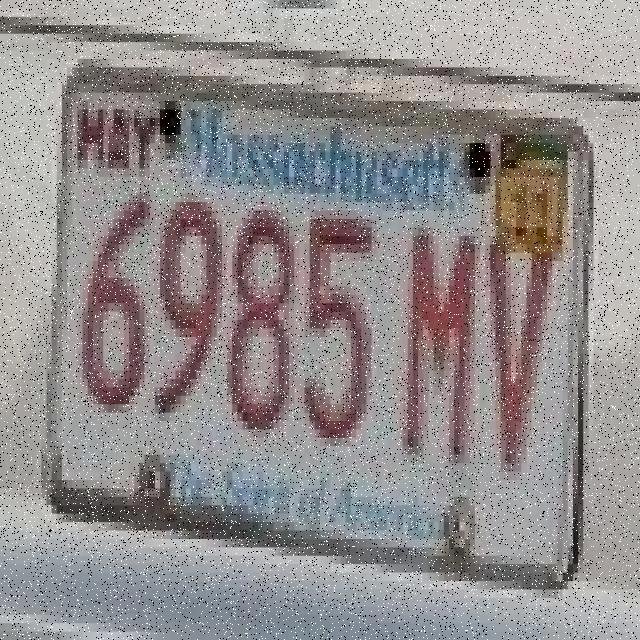licenseplate: (51, 47, 590, 600)
